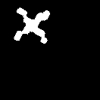single_crochet: (14, 8, 49, 42)
